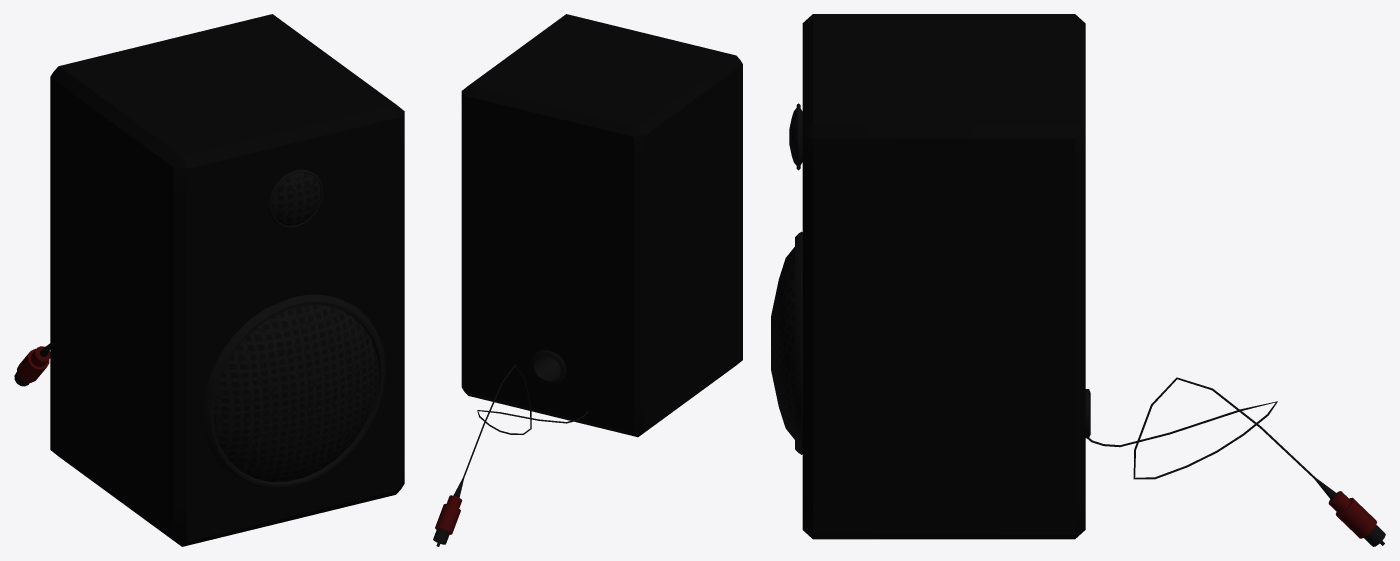
The model's file is Speaker.fbx.
3 views of the same model, side by side, from view 1: azimuth 30°, elevation 25°; view 2: azimuth 150°, elevation 25°; view 3: azimuth 270°, elevation 25° (orthographic). The views are drawn at different scales.
Visible parts, largest first — view 1: Mesh (2), Mesh; view 2: Mesh (2); view 3: Mesh (2).
Part boxes in pixels (bbox=[...]): Mesh (2): bbox=[14, 14, 404, 546]; Mesh: bbox=[268, 169, 323, 228]; Mesh (2): bbox=[433, 14, 742, 546]; Mesh (2): bbox=[771, 14, 1385, 546].
Size of the model in its own units: 82 by 152 by 178.
8 materials, 1 textured.
